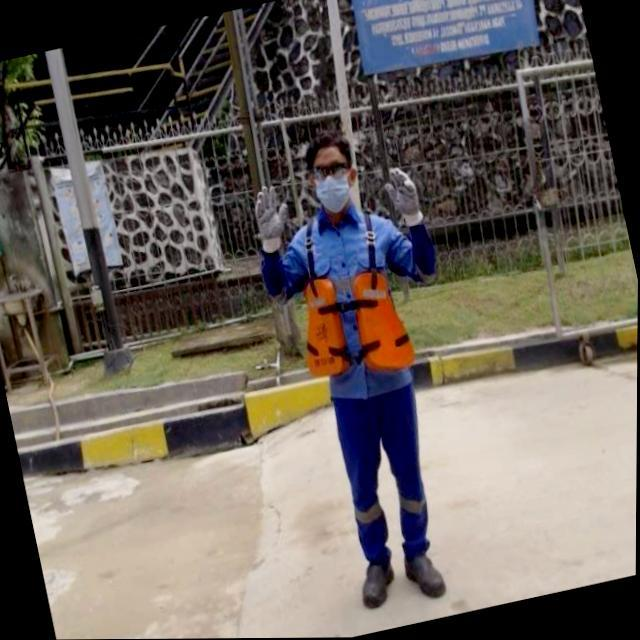goggles_on: (304, 158, 360, 185)
